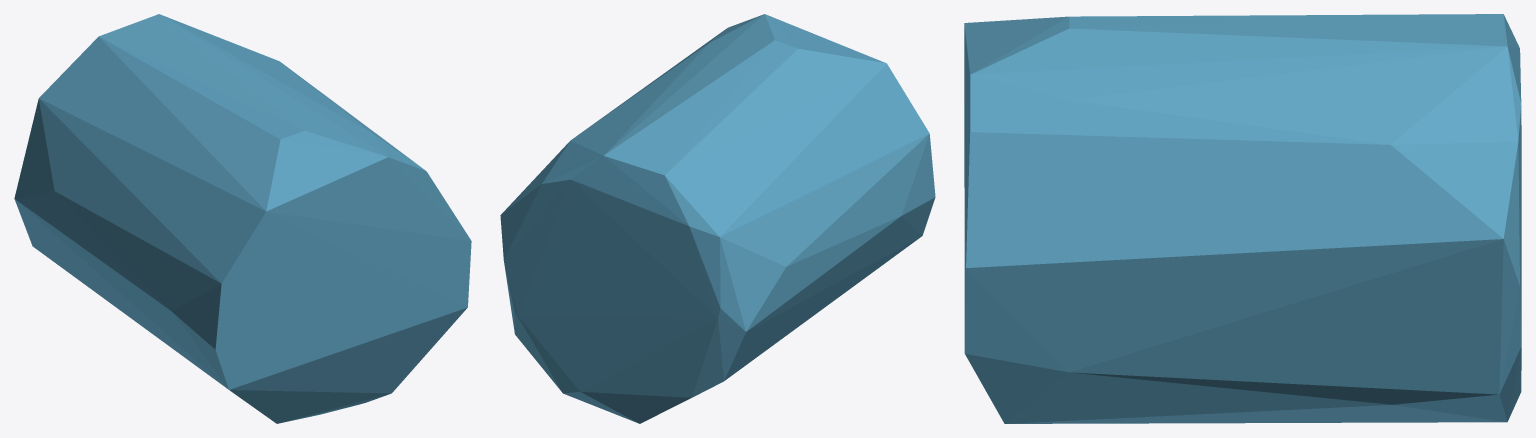
File: drum_plastic_blue_a01.glb
3 renders of one model, left to right at view 1: azimuth 30°, elevation 25°; view 2: azimuth 150°, elevation 25°; view 3: azimuth 270°, elevation 25°, orthographic. The views are drawn at different scales.
Parts seen in each view (by area): view 1: geometry_0; view 2: geometry_0; view 3: geometry_0.
Part boxes in pixels (<box>): geometry_0: <box>14,14,471,423</box>; geometry_0: <box>500,14,935,423</box>; geometry_0: <box>964,14,1521,423</box>.
Bounding box in the file's own units: 0.3438 × 0.3524 × 0.4687.
